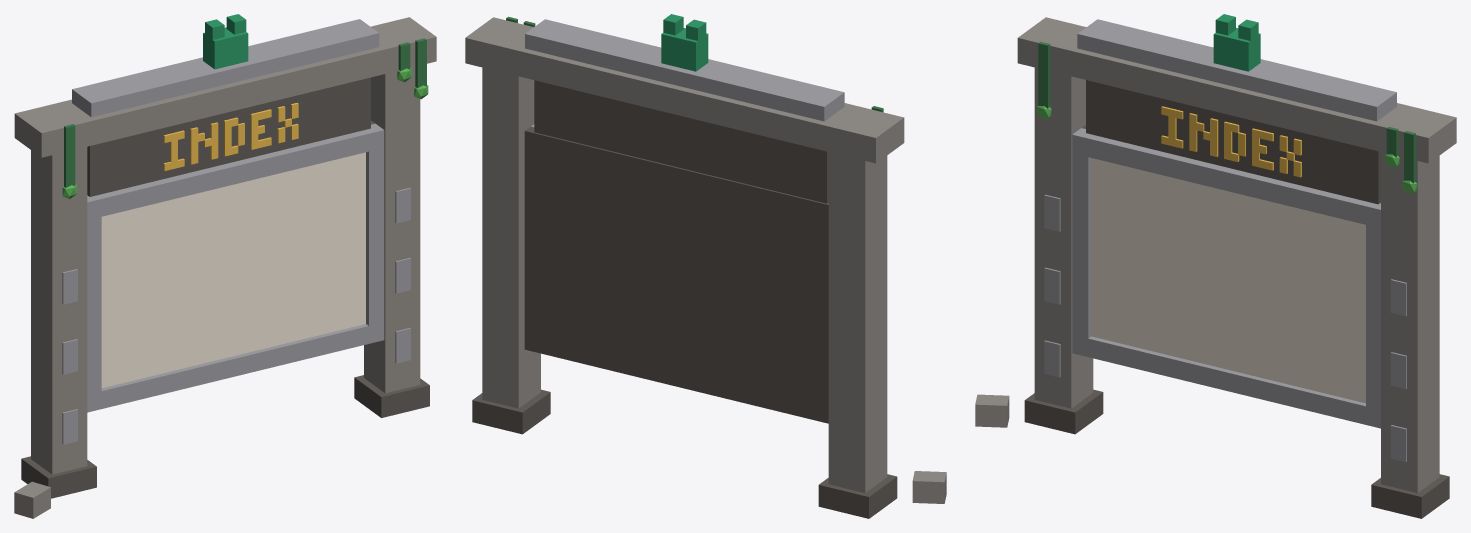
File: CatCafe_Ruins_IndexBoard.glb
3 renders of one model, left to right at view 1: azimuth 30°, elevation 25°; view 2: azimuth 150°, elevation 25°; view 3: azimuth 330°, elevation 25°, orthographic. The views are drawn at different scales.
Parts seen in each view (by area): view 1: CatCafe_Ruins_IndexBoard, CatCafe_Ruins_IndexBoard_Screen; view 2: CatCafe_Ruins_IndexBoard; view 3: CatCafe_Ruins_IndexBoard, CatCafe_Ruins_IndexBoard_Screen.
Part boxes in pixels (x1=…): CatCafe_Ruins_IndexBoard: x1=14, y1=14, x2=436, y2=518; CatCafe_Ruins_IndexBoard_Screen: x1=101, y1=152, x2=365, y2=388; CatCafe_Ruins_IndexBoard: x1=465, y1=14, x2=946, y2=518; CatCafe_Ruins_IndexBoard: x1=975, y1=14, x2=1456, y2=518; CatCafe_Ruins_IndexBoard_Screen: x1=1091, y1=158, x2=1365, y2=403.
Bounding box in the file's own units: 12.79 × 12.05 × 2.24.
Materials: 1 (1 with a texture image).
